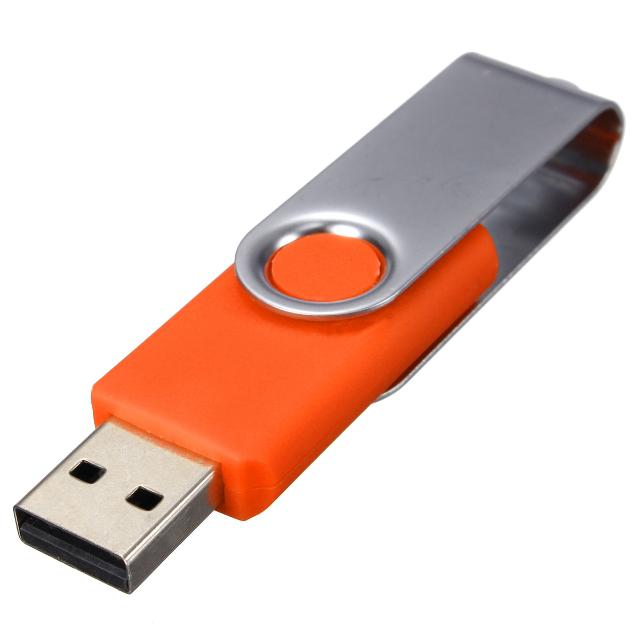USB-Flash-Drive: (6, 36, 628, 624)
